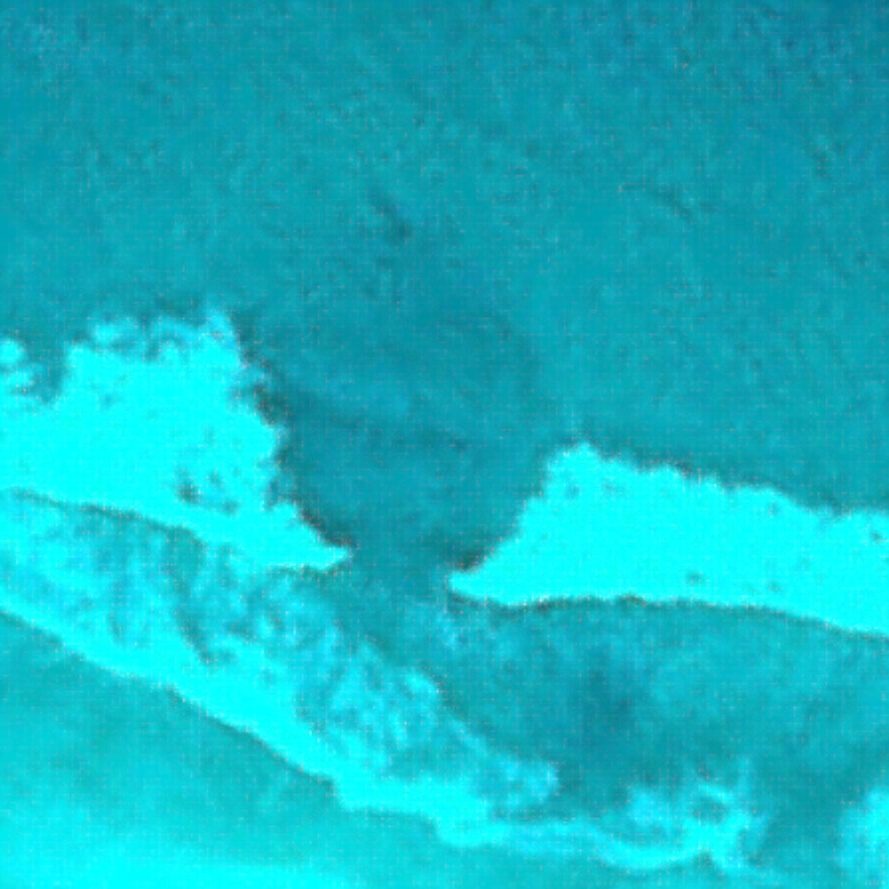rip_current: (204, 272, 576, 699)
